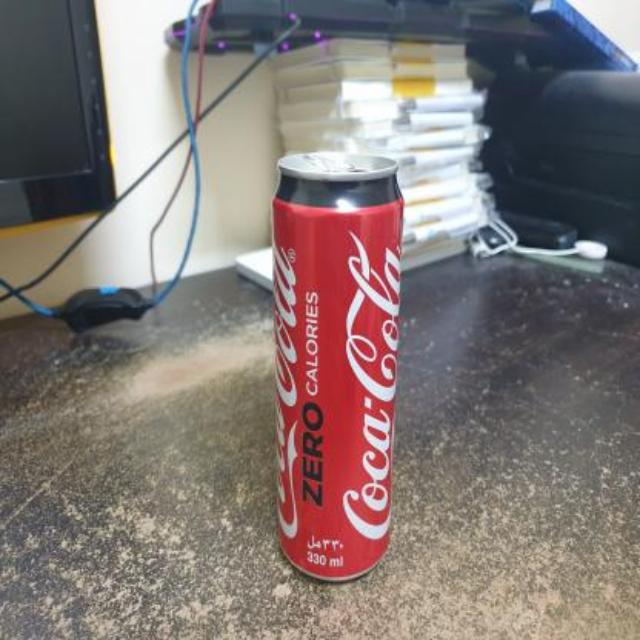metal: (271, 151, 400, 577)
